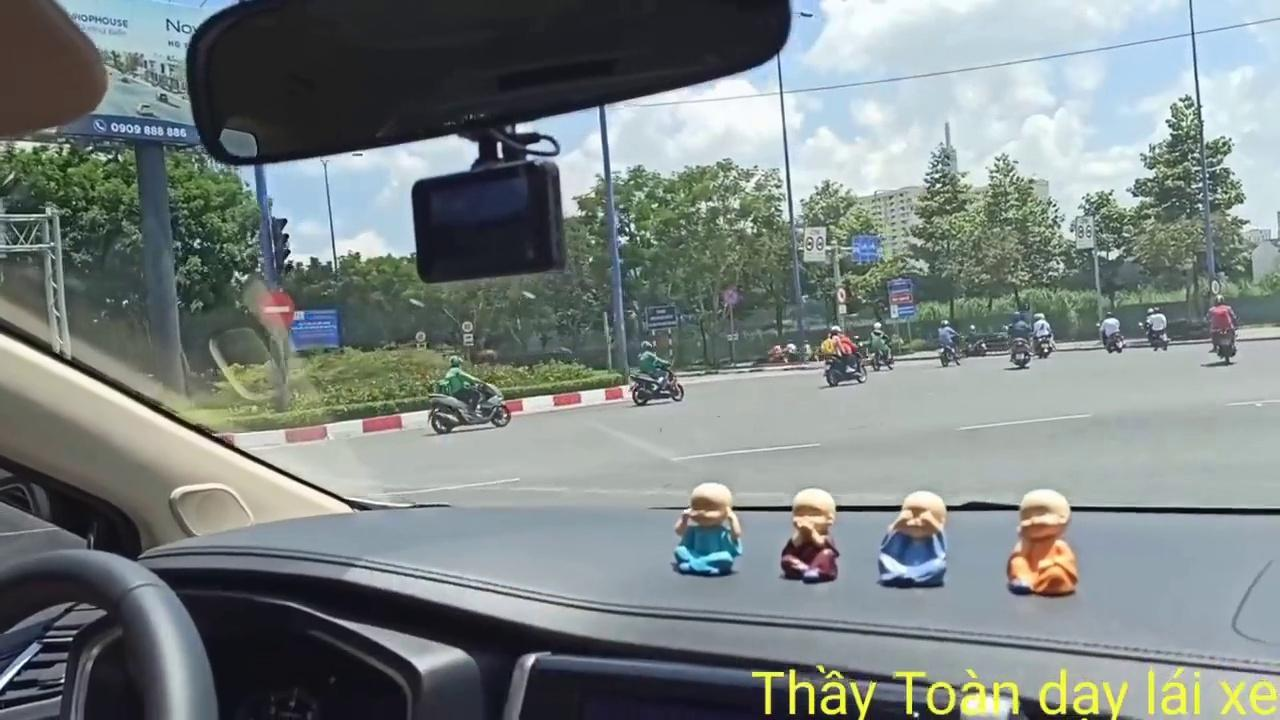Cấm cac phương tiện hoạt động trong khung giờ cố định: (801, 225, 828, 263)
Cấm dừng - Cấm đỗ: (722, 284, 740, 306)
Cấm đi ngược chiều: (257, 290, 294, 332)
Khác: (284, 310, 340, 350), (884, 277, 918, 319)
Làn đường cho từng xe: (850, 232, 884, 266)
